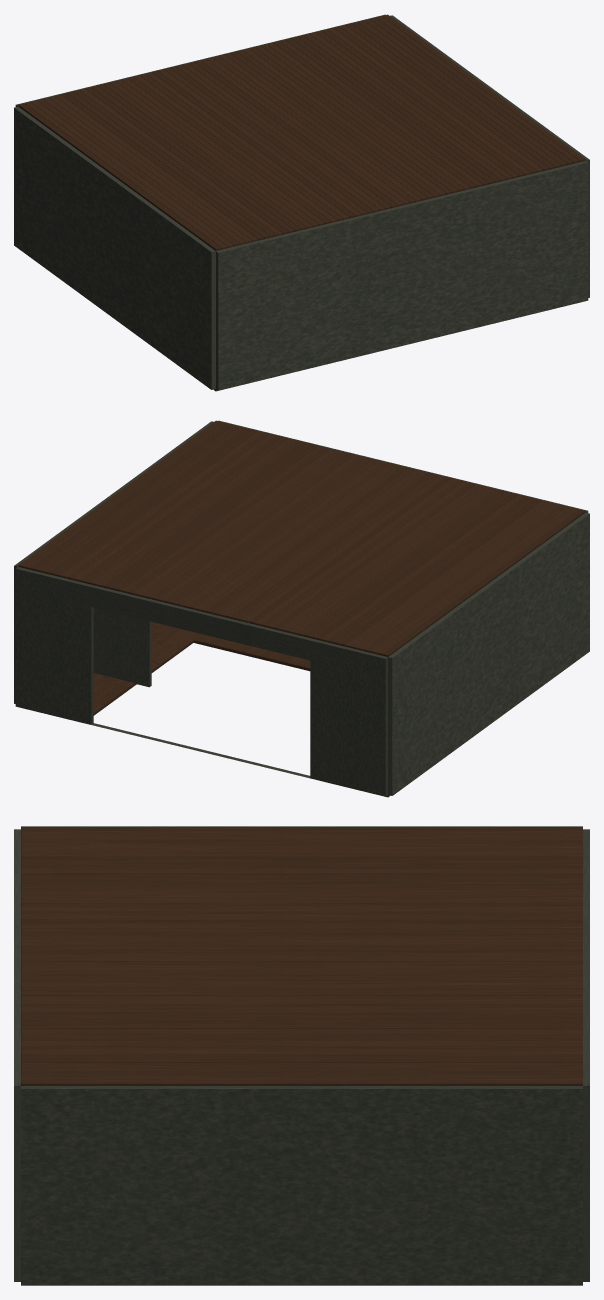
Rendered from workshop-360-v4.glb.
3 views of the same model, one above another, from view 1: azimuth 30°, elevation 25°; view 2: azimuth 150°, elevation 25°; view 3: azimuth 270°, elevation 25° (orthographic). The views are drawn at different scales.
Parts seen in each view (by area): view 1: Workshop360_wall, Workshop360_wood; view 2: Workshop360_wood, Workshop360_wall, Workshop360_floor; view 3: Workshop360_wood, Workshop360_wall.
Boxes of the visible parts, box(x1,y1,x2,y2) form: Workshop360_wall: box(14, 14, 589, 390); Workshop360_wood: box(18, 14, 585, 250); Workshop360_wood: box(18, 420, 585, 656); Workshop360_wall: box(14, 420, 589, 796); Workshop360_floor: box(93, 622, 389, 797); Workshop360_wood: box(21, 827, 582, 1085); Workshop360_wall: box(14, 826, 589, 1284).
Bounding box in the file's own units: 24.56 × 8.82 × 22.76.
14 materials, 12 textured.
